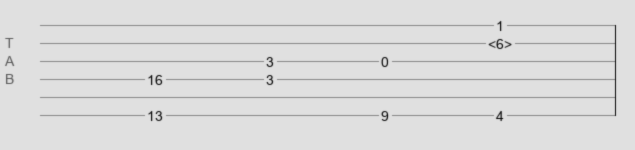0: (381, 54, 389, 64)
1: (496, 18, 504, 28)
13: (147, 108, 163, 118)
16: (147, 72, 163, 82)
3: (266, 54, 274, 64), (266, 72, 274, 82)
4: (496, 108, 504, 118)
9: (381, 108, 389, 118)
harmonic: (488, 36, 512, 46)
